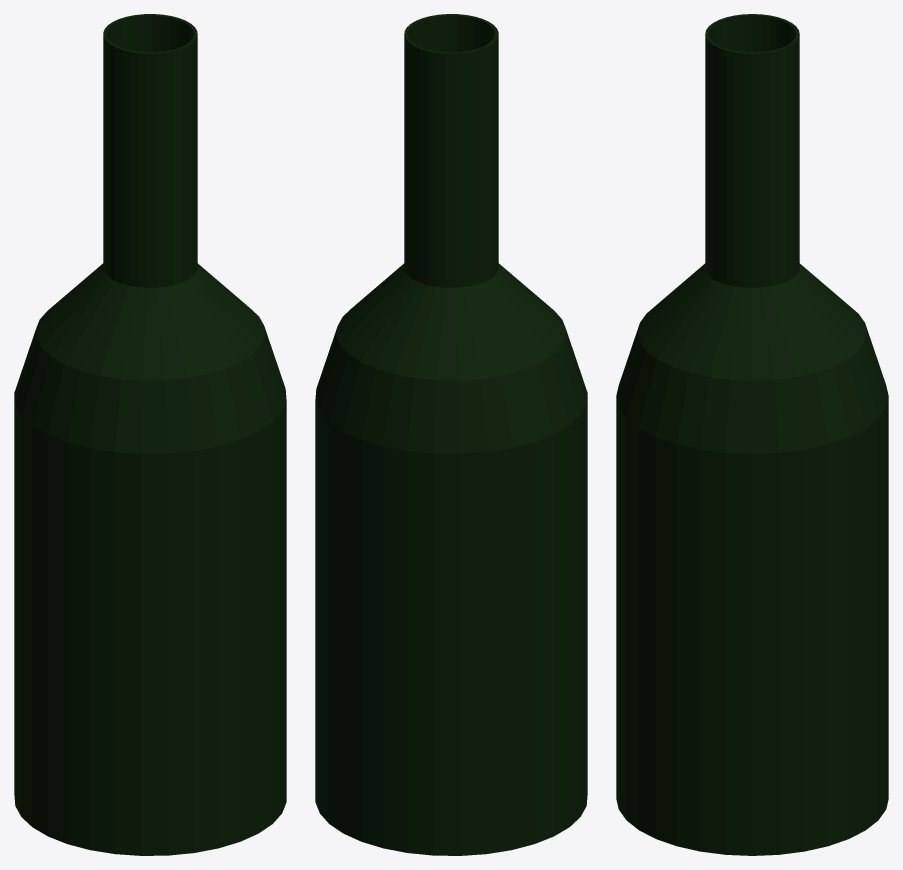
The model's file is Botella_vidrio.fbx.
3 views of the same model, side by side, from view 1: azimuth 30°, elevation 25°; view 2: azimuth 150°, elevation 25°; view 3: azimuth 270°, elevation 25° (orthographic).
Visible parts, largest first — view 1: Cilindro; view 2: Cilindro; view 3: Cilindro.
Boxes of the visible parts, box(x1,y1,x2,y2) form: Cilindro: box(14, 14, 286, 855); Cilindro: box(315, 14, 587, 855); Cilindro: box(616, 14, 888, 855).
Size of the model in its own units: 7.5 by 23.2 by 7.5.
